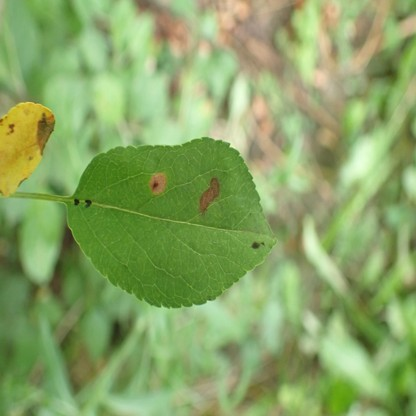frogeye: (37, 112, 57, 157), (200, 177, 220, 211), (149, 173, 167, 196)
